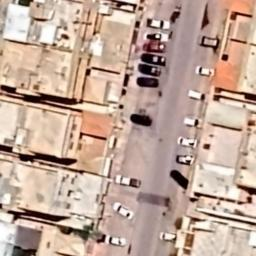SUV: (179, 114, 207, 130)
sedan: (112, 197, 138, 221), (173, 134, 203, 150), (103, 232, 132, 248), (201, 32, 223, 53), (142, 28, 174, 42), (140, 40, 174, 52), (141, 52, 172, 65), (145, 16, 176, 28), (135, 78, 161, 92), (174, 150, 196, 166), (158, 230, 178, 246), (128, 114, 154, 126), (138, 64, 162, 76), (193, 64, 217, 75)
van: (112, 170, 144, 188), (185, 86, 208, 102)
